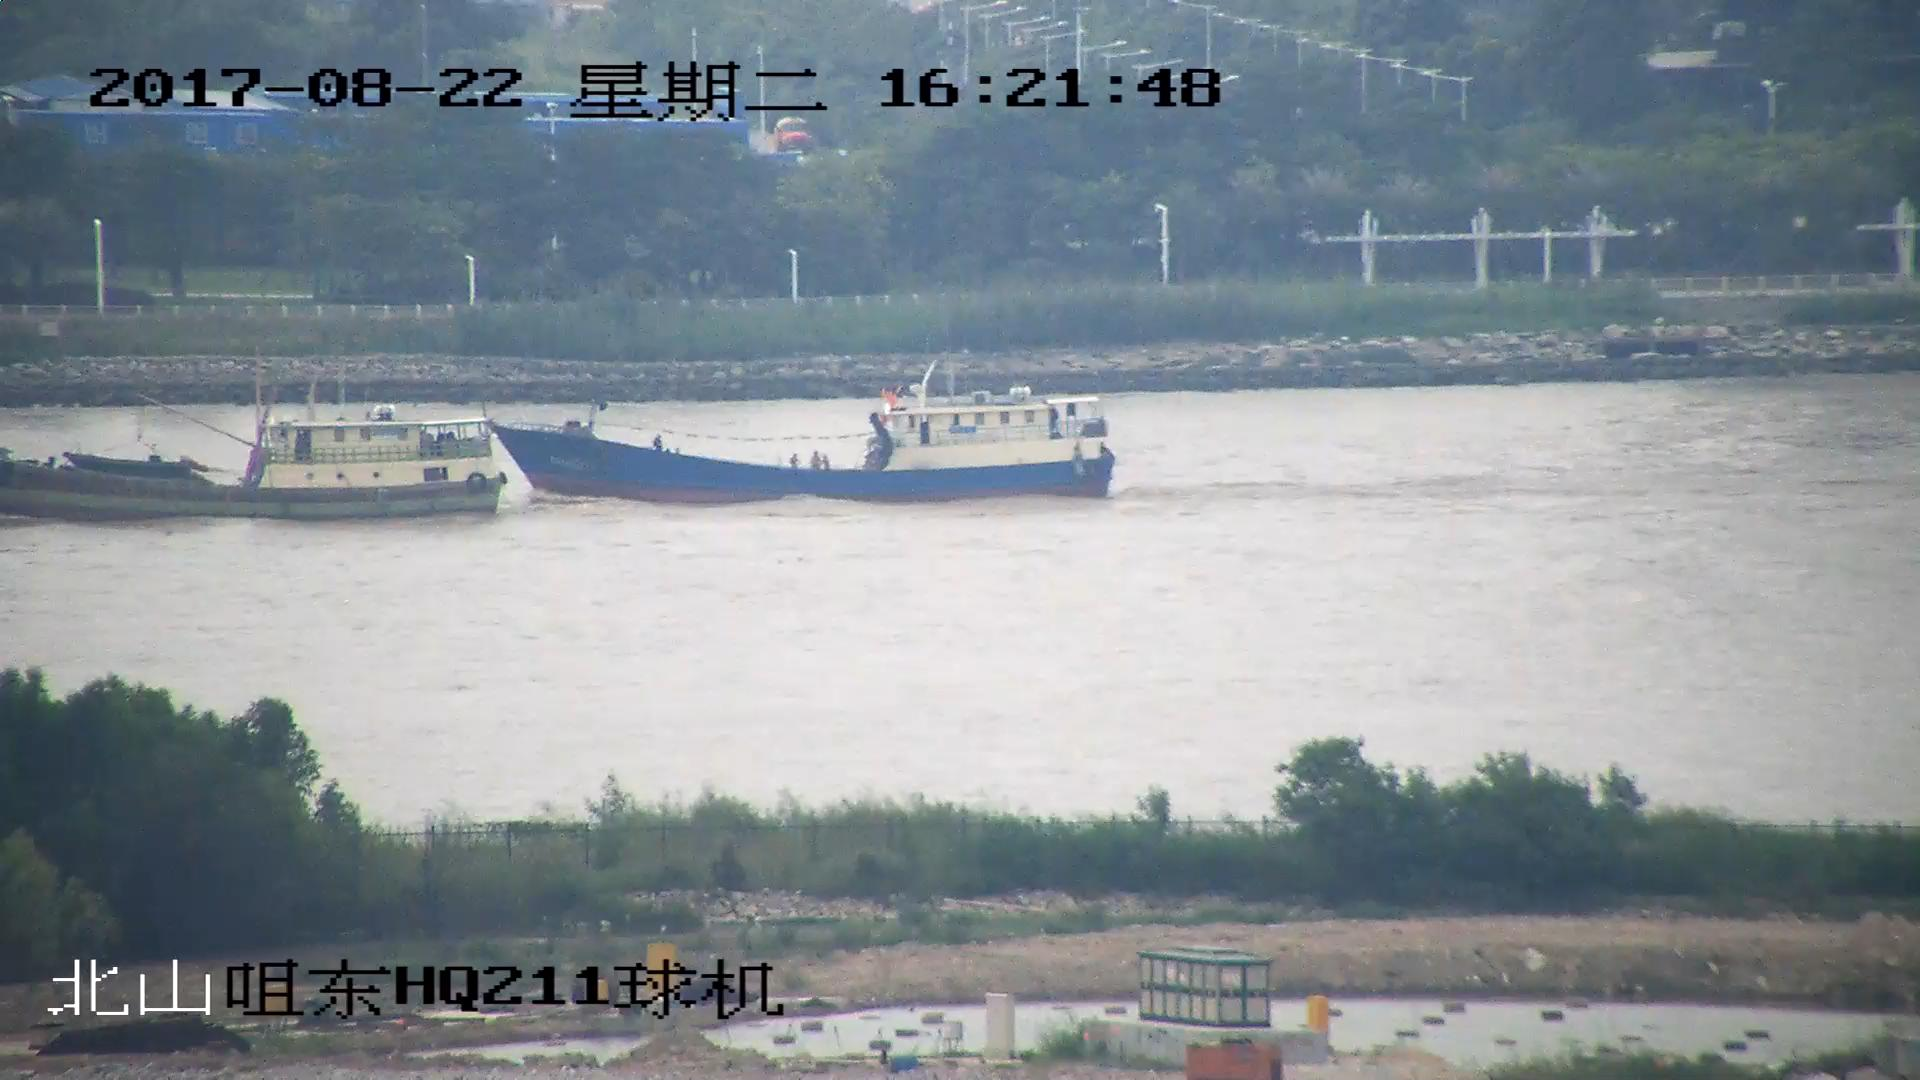fishing boat: (482, 363, 1116, 503), (1, 372, 508, 514)
